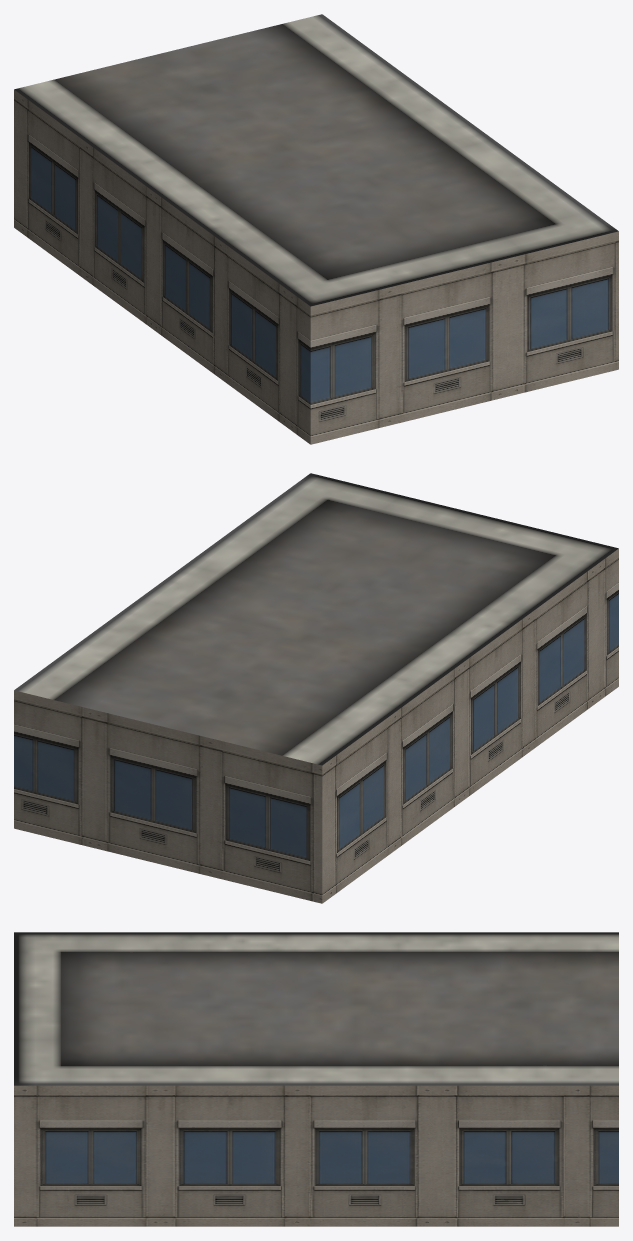
The model's file is building_light_01.glb.
3 views of the same model, one above another, from view 1: azimuth 30°, elevation 25°; view 2: azimuth 150°, elevation 25°; view 3: azimuth 270°, elevation 25° (orthographic).
Visible parts, largest first — view 1: buildings/saxarba/building_light/building_light_01; view 2: buildings/saxarba/building_light/building_light_01; view 3: buildings/saxarba/building_light/building_light_01.
Part boxes in pixels (left/top/right/bottom): buildings/saxarba/building_light/building_light_01: left=14, top=14, right=618, bottom=444; buildings/saxarba/building_light/building_light_01: left=14, top=473, right=618, bottom=903; buildings/saxarba/building_light/building_light_01: left=14, top=932, right=618, bottom=1226.
Size of the model in its own units: 42 by 18 by 70.
